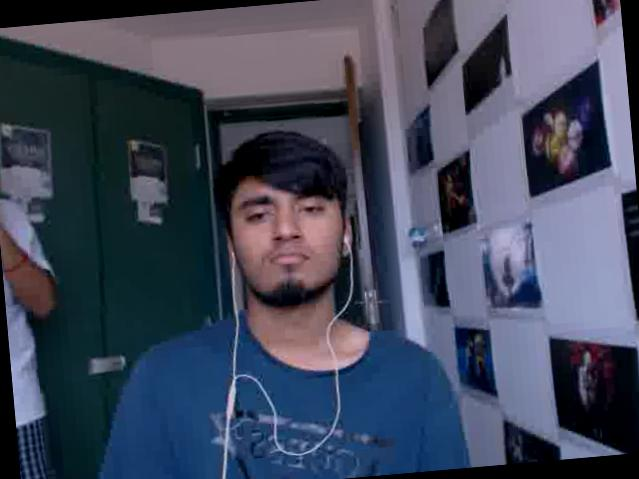bosan: (230, 162, 346, 294)
